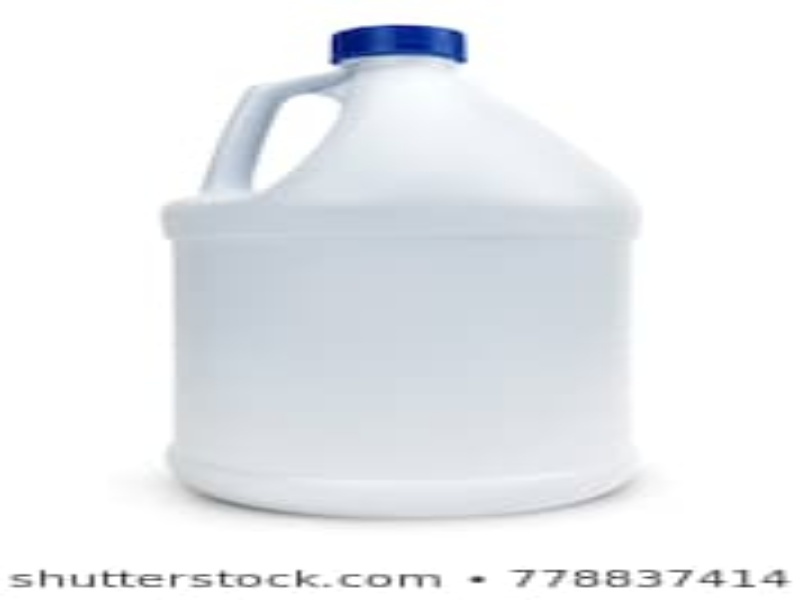detergent-bottle: (158, 10, 649, 525)
